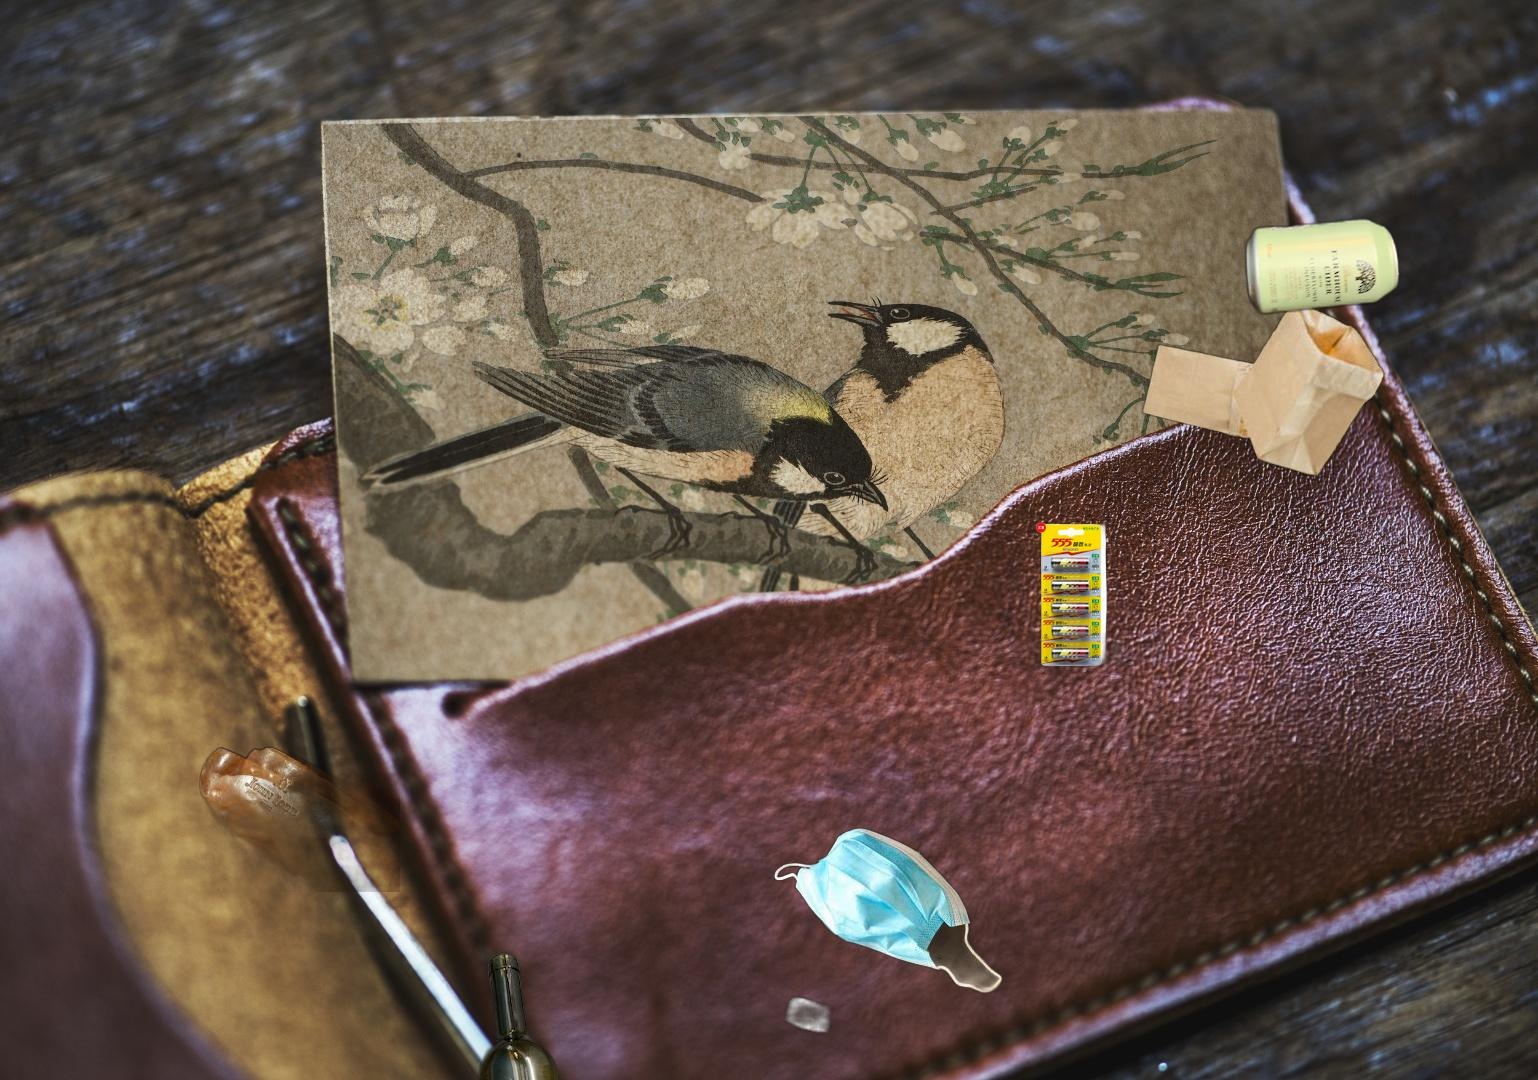battery: (1033, 519, 1173, 669)
glass: (473, 948, 589, 1080)
metal-cans: (1240, 213, 1404, 320)
paper-bag: (1139, 297, 1387, 478)
penholder: (1297, 1032, 1538, 1080)
shoes: (174, 734, 400, 892)
trash: (668, 916, 922, 1080), (771, 825, 1007, 996)
